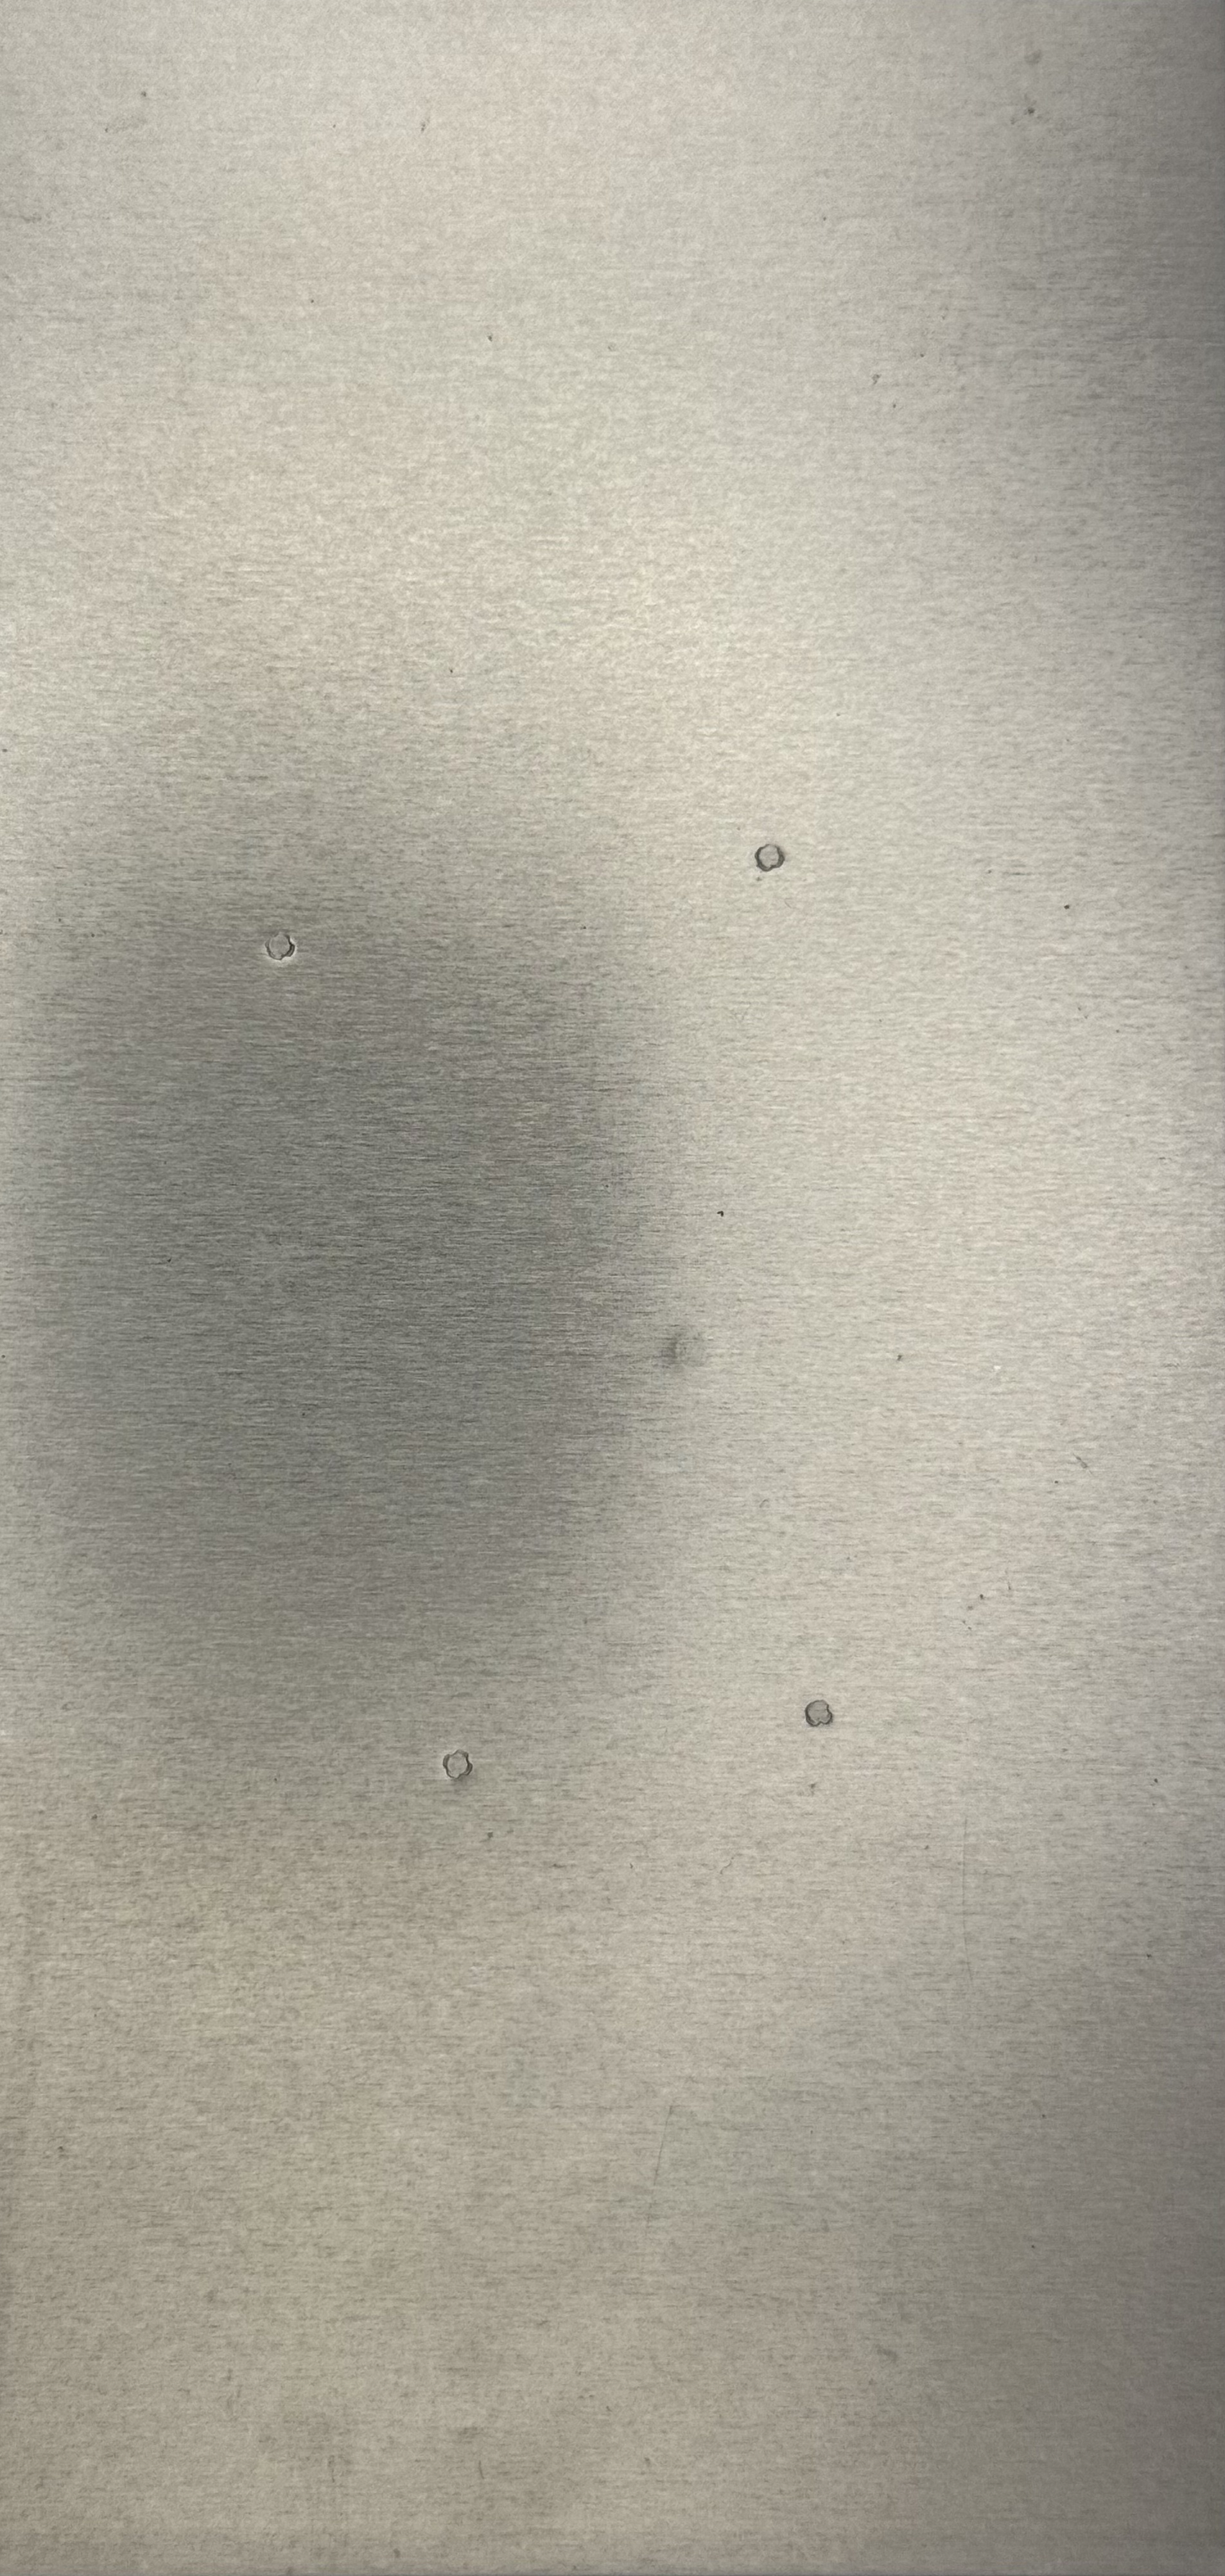Delle: (640, 1313, 731, 1393), (241, 907, 314, 989), (742, 830, 800, 887), (793, 1690, 852, 1745), (430, 1740, 479, 1794)
